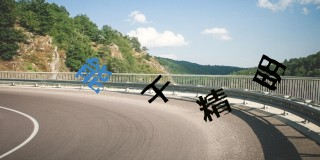干: (141, 75, 170, 105)
明: (251, 54, 288, 92)
精: (196, 88, 234, 123)
能: (76, 56, 111, 94)
